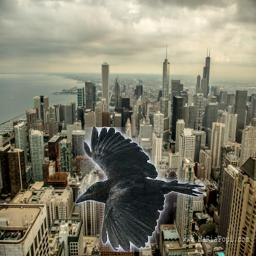Crow: (75, 127, 205, 252)
